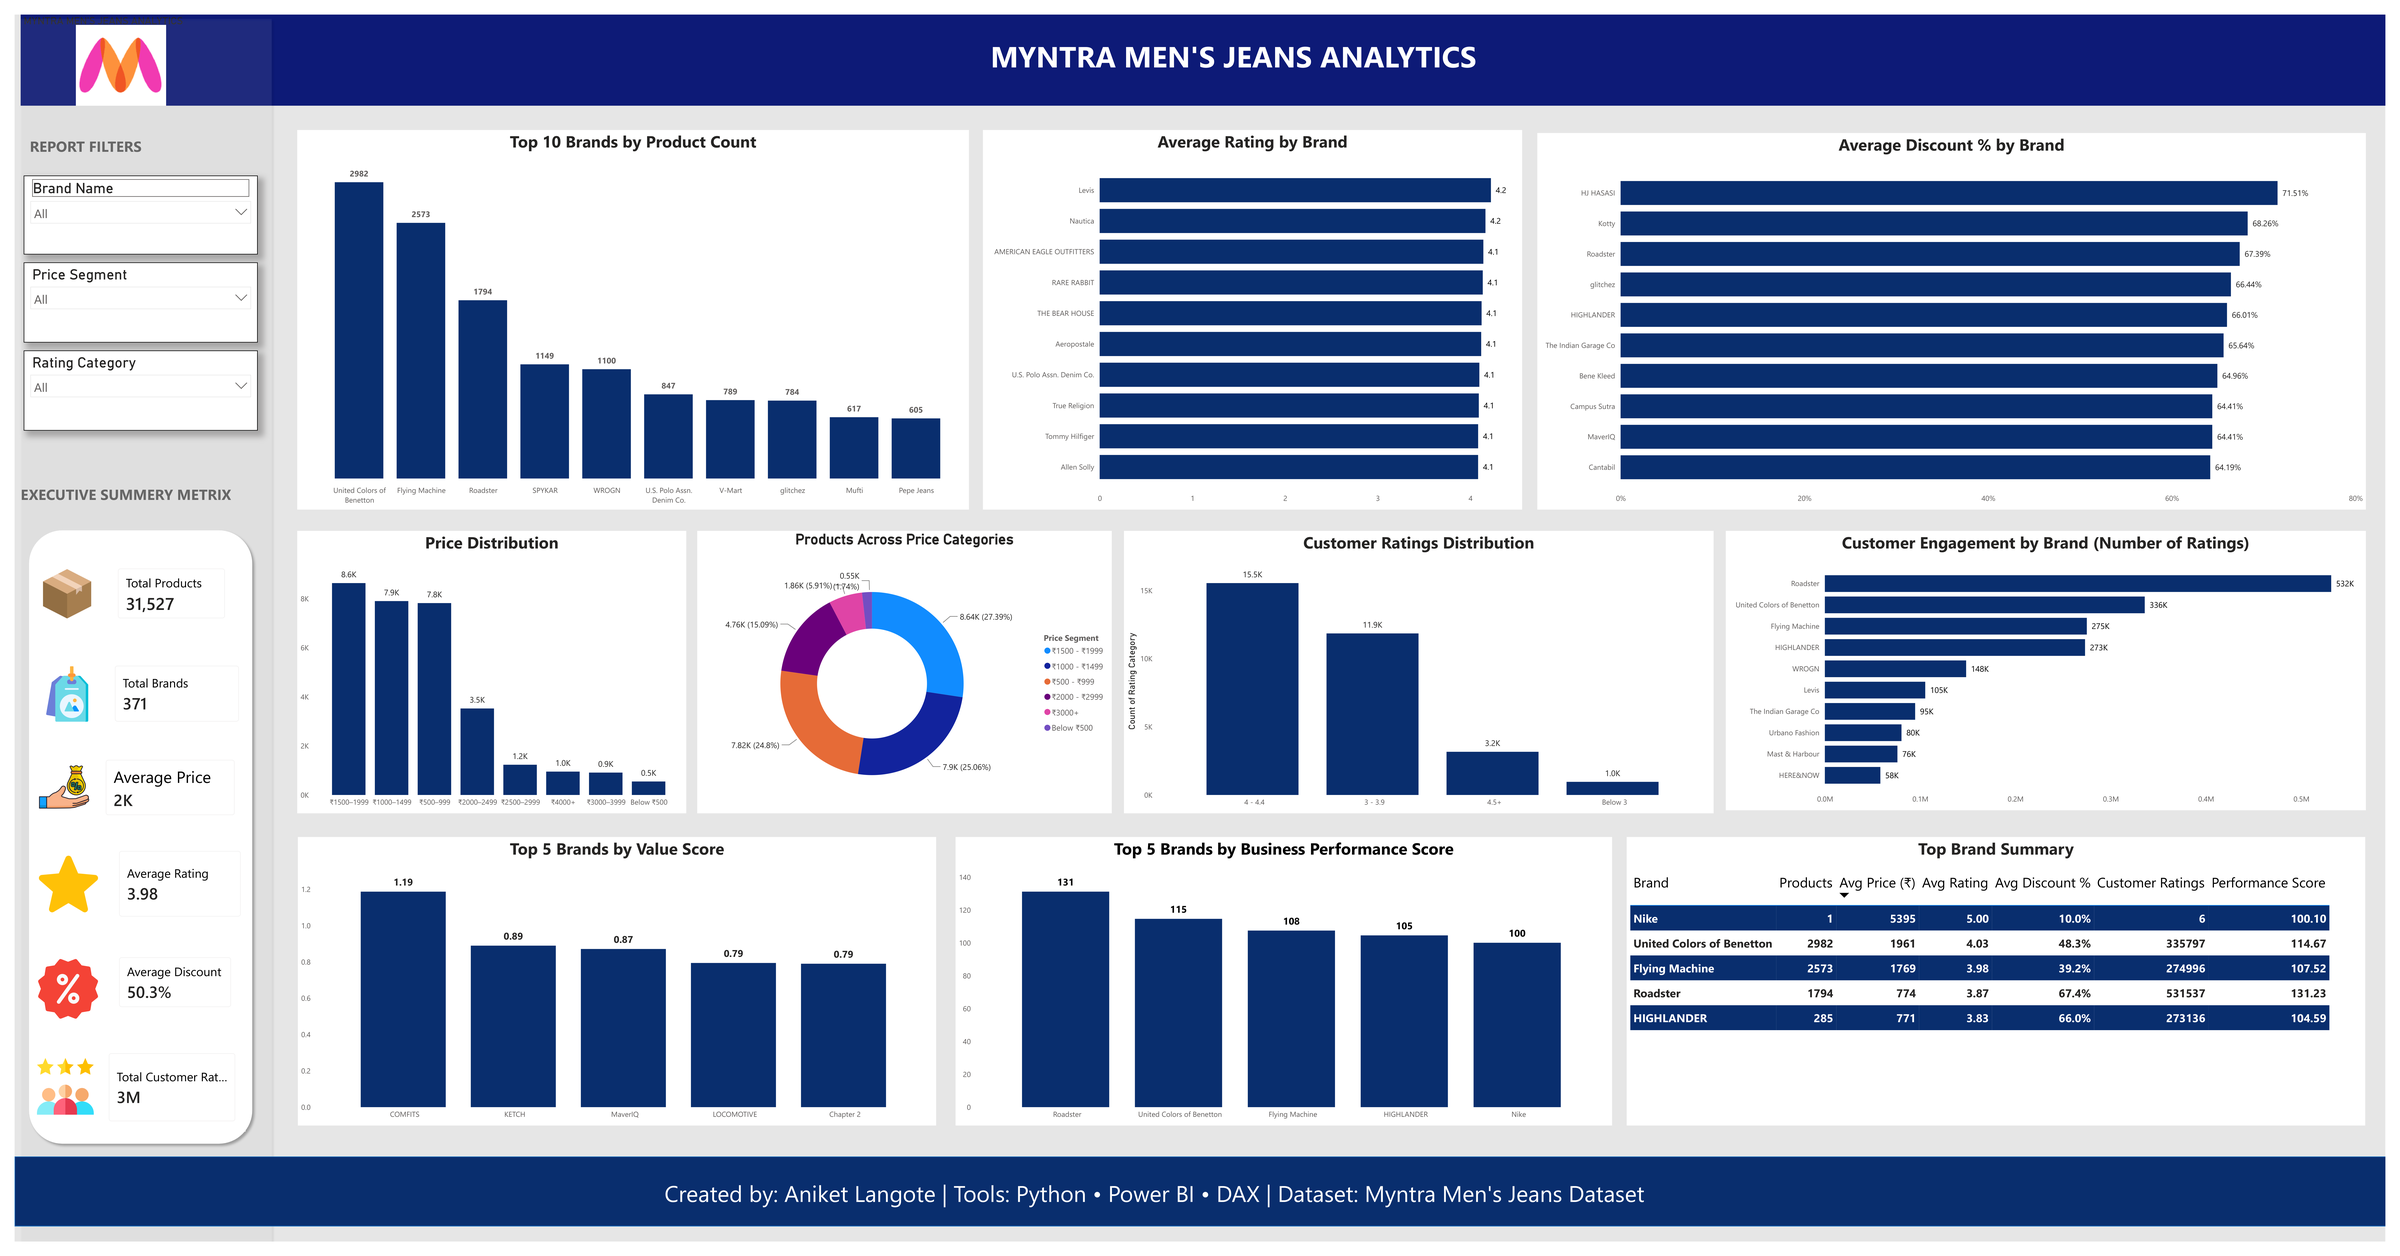

The dashboard page shown, as its layout file describes it:
{"tool":"powerbi","page":{"name":"Page 1","canvas":[3900,2020],"ordinal":0},"visuals":[{"type":"textbox","title":"MYNTRA MEN''S JEANS ANALYTICS","box":[10,0,3990,150],"z":0},{"type":"shape","box":[0,0,434,2480],"z":1000},{"type":"image","box":[10,0,250,120],"z":2000},{"type":"slicer","title":"Brand Name","fields":{"Values":["myntra_cleaned.brand_name"]},"box":[16,194,356,104],"z":3000},{"type":"slicer","fields":{"Values":["myntra_cleaned.Price Segment"]},"box":[16,362,358,118],"z":4000},{"type":"slicer","fields":{"Values":["myntra_cleaned.Rating Category"]},"box":[16,552,354,132],"z":5000},{"type":"shape","box":[15,755,390,1110],"z":6000},{"type":"image","box":[34,1518,106,96],"z":12000},{"type":"image","box":[28,1354,82,98],"z":13000},{"type":"image","box":[30,1668,94,88],"z":14000},{"type":"image","box":[28,1152,84,126],"z":15000},{"type":"image","box":[40,832,76,78],"z":16000},{"type":"image","box":[0,992,130,90],"z":17000},{"type":"cardVisual","fields":{"Data":["myntra_cleaned.Total Products"]},"box":[146,814,210,116],"z":18000},{"type":"cardVisual","fields":{"Data":["myntra_cleaned.Total Brands"]},"box":[140,974,238,126],"z":19000},{"type":"cardVisual","fields":{"Data":["myntra_cleaned.Average Price"]},"box":[128,1152,246.7,125],"z":20000},{"type":"cardVisual","fields":{"Data":["myntra_cleaned.Average Rating"]},"box":[136,1332,234,142],"z":21000},{"type":"cardVisual","fields":{"Data":["myntra_cleaned.Average Discount"]},"box":[156,1498,218,116],"z":22000},{"type":"cardVisual","fields":{"Data":["myntra_cleaned.Total Customer Ratings"]},"box":[138,1640,242,146],"z":23000},{"type":"clusteredColumnChart","title":"Top 10 Brands by Product Count","fields":{"Category":["myntra_cleaned.brand_name"],"Y":["CountNonNull(myntra_cleaned.brand_name)"]},"box":[465,190,1105,625],"z":24000},{"type":"clusteredBarChart","title":"Average Rating by Brand","fields":{"Category":["myntra_cleaned.brand_name"],"Y":["myntra_cleaned.Average Rating (Min 100 Products)"]},"box":[1592.5,190,887.5,625],"z":25000},{"type":"clusteredBarChart","title":"Average Discount % by Brand","fields":{"Category":["myntra_cleaned.brand_name"],"Y":["myntra_cleaned.Average Discount (Min 100 Products)"]},"box":[2505,195,1362.5,620],"z":26000},{"type":"clusteredColumnChart","title":"Price Distribution","fields":{"Category":["myntra_cleaned.Price Range"],"Y":["CountNonNull(myntra_cleaned.Price Range)"]},"box":[465,850.4,640,465],"z":27000},{"type":"donutChart","title":"Products Across Price Categories","fields":{"Category":["myntra_cleaned.Price Segment"],"Y":["CountNonNull(myntra_cleaned.Price Segment)"]},"box":[1122.5,850,682.5,465],"z":28000},{"type":"clusteredColumnChart","title":"Customer Ratings Distribution","fields":{"Category":["myntra_cleaned.Rating Category"],"Y":["CountNonNull(myntra_cleaned.Rating Category)"]},"box":[1825,850,970,465],"z":29000},{"type":"clusteredBarChart","title":"Customer Engagement by Brand (Number of Ratings)","fields":{"Category":["myntra_cleaned.brand_name"],"Y":["myntra_cleaned.Customer Engagement"]},"box":[2815,850,1052.5,460],"z":30000},{"type":"clusteredColumnChart","title":"Top 5 Brands by Value Score","fields":{"Category":["myntra_cleaned.brand_name"],"Y":["myntra_cleaned.Value Score"]},"box":[466,1354,1050,475],"z":31000},{"type":"clusteredColumnChart","title":"Top 5 Brands by Business Performance Score","fields":{"Category":["myntra_cleaned.brand_name"],"Y":["myntra_cleaned.Business Performance Score"]},"box":[1548,1354,1080,475],"z":32000},{"type":"tableEx","title":"Top Brand Summary","fields":{"Values":["myntra_cleaned.brand_name","myntra_cleaned.Product Count","myntra_cleaned.Average Price","myntra_cleaned.Average Rating","myntra_cleaned.Average Discount","myntra_cleaned.Customer Engagement","myntra_cleaned.Business Performance Score"]},"box":[2652,1354,1215,475],"z":33000},{"type":"shape","box":[0,1880,4000,115],"z":34000},{"type":"textbox","box":[355,1910,3040,165],"z":35000}]}

Visuals, with their boxes in screenshot pixels (x1, y1, x2, y2), scaled from the page's 3900x2020 canvas onto the 2400x1256 screenshot:
"MYNTRA MEN''S JEANS ANALYTICS" textbox: 6,0,2399,93
shape: 0,0,267,1255
image: 6,0,160,75
"Brand Name" slicer: 10,121,229,185
slicer - myntra_cleaned.Price Segment: 10,225,230,298
slicer - myntra_cleaned.Rating Category: 10,343,228,425
shape: 9,469,249,1160
image: 21,944,86,1004
image: 17,842,68,903
image: 18,1037,76,1092
image: 17,716,69,795
image: 25,517,71,566
image: 0,617,80,673
cardVisual - myntra_cleaned.Total Products: 90,506,219,578
cardVisual - myntra_cleaned.Total Brands: 86,606,233,684
cardVisual - myntra_cleaned.Average Price: 79,716,231,794
cardVisual - myntra_cleaned.Average Rating: 84,828,228,917
cardVisual - myntra_cleaned.Average Discount: 96,931,230,1004
cardVisual - myntra_cleaned.Total Customer Ratings: 85,1020,234,1111
"Top 10 Brands by Product Count" clusteredColumnChart: 286,118,966,507
"Average Rating by Brand" clusteredBarChart: 980,118,1526,507
"Average Discount % by Brand" clusteredBarChart: 1542,121,2380,507
"Price Distribution" clusteredColumnChart: 286,529,680,818
"Products Across Price Categories" donutChart: 691,529,1111,818
"Customer Ratings Distribution" clusteredColumnChart: 1123,529,1720,818
"Customer Engagement by Brand (Number of Ratings)" clusteredBarChart: 1732,529,2380,815
"Top 5 Brands by Value Score" clusteredColumnChart: 287,842,933,1137
"Top 5 Brands by Business Performance Score" clusteredColumnChart: 953,842,1617,1137
"Top Brand Summary" tableEx: 1632,842,2380,1137
shape: 0,1169,2399,1240
textbox: 218,1188,2089,1255
